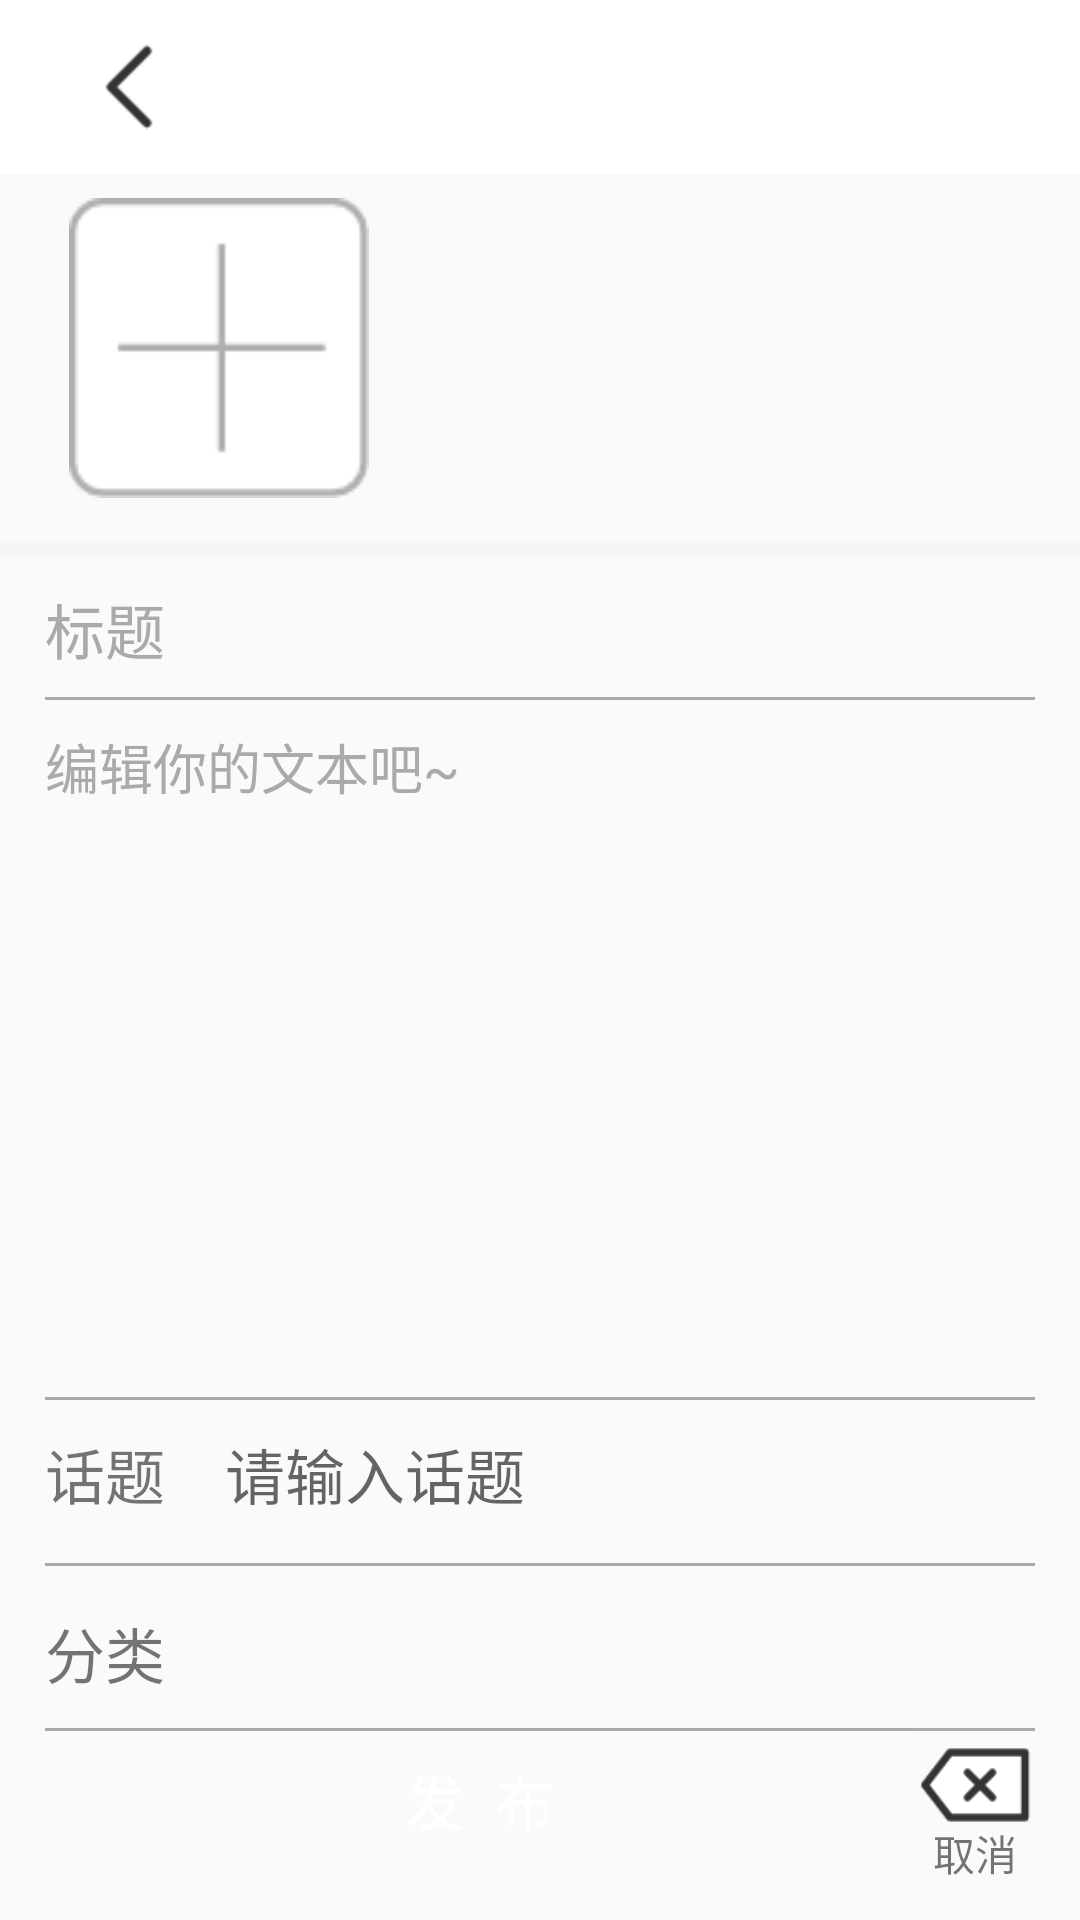

Icons on this 1080 × 1920 Android screen, each with the point to tap as (x,y):
back: (129,87)
publish add: (219,348)
